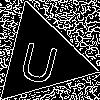U: (16, 32, 63, 86)
